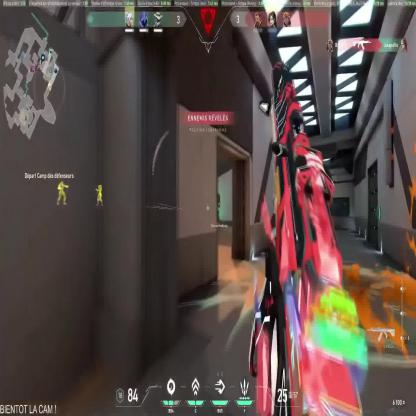enemy: (56, 180, 69, 206), (95, 184, 103, 205)
enemy_head: (61, 180, 64, 185), (98, 185, 102, 187)
